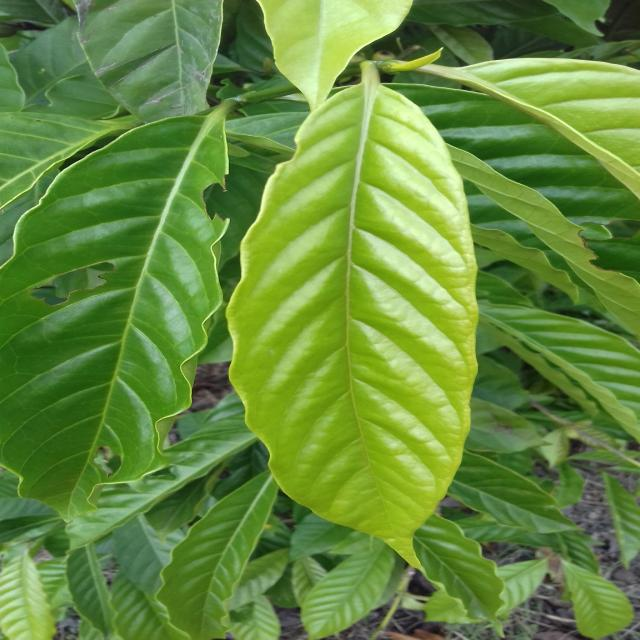Sanas: (225, 80, 479, 567)
